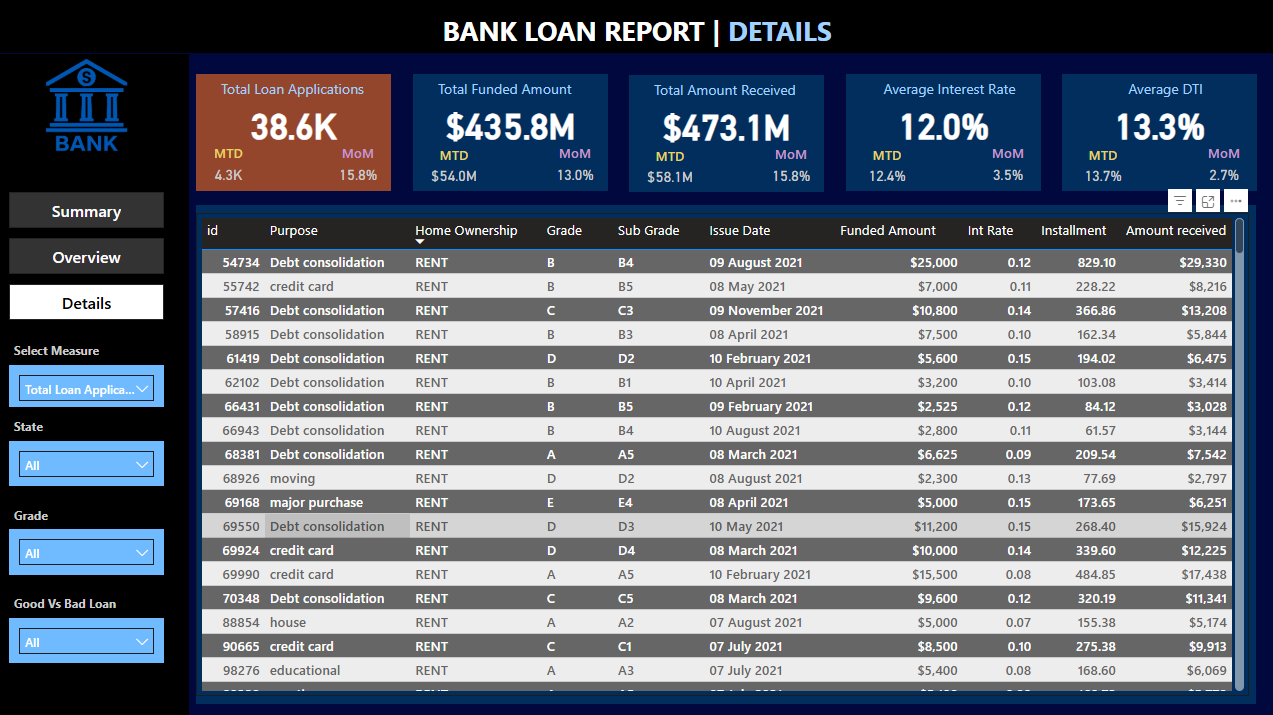

The page's visual inventory and layout, read from the dashboard file:
{"tool":"powerbi","page":{"name":"Details","canvas":[1280,720],"ordinal":2},"visuals":[{"type":"shape","box":[0,0,1280,55.4],"z":0},{"type":"shape","box":[0,55.7,191.6,664.3],"z":1000},{"type":"textbox","box":[413.4,8.8,453.3,46.7],"z":2000},{"type":"group","id":"g1","title":"Group 1","box":[199.4,75.9,194.5,116.7],"z":3000},{"type":"shape","box":[199.4,75.9,194.5,116.7],"z":3000,"group":"g1"},{"type":"shape","box":[415.8,75.9,194.5,116.7],"z":3000,"group":"g2"},{"type":"shape","box":[848.6,75.9,194.5,116.7],"z":3000,"group":"g4"},{"type":"shape","box":[1065,75.9,194.5,116.7],"z":3000,"group":"g5"},{"type":"shape","box":[632.2,76.8,194.5,116.7],"z":3000,"group":"g3"},{"type":"group","id":"g2","title":"Group 1","box":[415.8,75.9,194.5,116.7],"z":4000},{"type":"card","fields":{"Values":["public loan_data.Total Loan Applications"]},"box":[207.2,91.5,179,68.1],"z":4000,"group":"g1"},{"type":"card","fields":{"Values":["public loan_data.Total Funded Amount"]},"box":[423.6,91.5,179,68.1],"z":4000,"group":"g2"},{"type":"card","fields":{"Values":["public loan_data.Average Interest rate"]},"box":[856.4,91.5,179,68.1],"z":4000,"group":"g4"},{"type":"card","fields":{"Values":["public loan_data.Average DTI"]},"box":[1072.8,91.5,179,68.1],"z":4000,"group":"g5"},{"type":"card","fields":{"Values":["public loan_data.Total Amount received"]},"box":[640,92.4,179,68.1],"z":4000,"group":"g3"},{"type":"textbox","box":[219.8,75.9,166.3,30.2],"z":5000,"group":"g1"},{"type":"textbox","box":[436.2,75.9,166.3,30.2],"z":5000,"group":"g2"},{"type":"textbox","box":[869,75.9,166.3,30.2],"z":5000,"group":"g4"},{"type":"textbox","box":[1085.4,75.9,166.3,30.2],"z":5000,"group":"g5"},{"type":"group","id":"g3","title":"Group 1","box":[632.2,76.8,194.5,116.7],"z":5000},{"type":"textbox","box":[652.6,76.8,166.3,30.2],"z":5000,"group":"g3"},{"type":"shape","box":[199.4,207.2,1060.2,499],"z":5000,"group":"g6"},{"type":"group","id":"g4","title":"Group 1","box":[848.6,75.9,194.5,116.7],"z":6000},{"type":"card","title":"MTD","fields":{"Values":["public loan_data.MTD Loan Application"]},"box":[207.2,145.9,49.6,46.7],"z":6000,"group":"g1"},{"type":"card","title":"MTD","fields":{"Values":["public loan_data.MTD Funded Amount"]},"box":[427.1,148,59.3,44.7],"z":6000,"group":"g2"},{"type":"card","title":"MTD","fields":{"Values":["public loan_data.MTD Avg Interest Rate"]},"box":[859.9,148,59.3,44.7],"z":6000,"group":"g4"},{"type":"card","title":"MTD","fields":{"Values":["public loan_data.MTD Avg dti"]},"box":[1076.3,148,59.3,44.7],"z":6000,"group":"g5"},{"type":"card","title":"MTD","fields":{"Values":["public loan_data.MTD Received Amount"]},"box":[643.5,148.9,59.3,44.7],"z":6000,"group":"g3"},{"type":"group","id":"g5","title":"Group 1","box":[1065,75.9,194.5,116.7],"z":7000},{"type":"card","title":"MoM","fields":{"Values":["public loan_data.MOM Loan Application"]},"box":[336.5,145.9,49.6,46.7],"z":7000,"group":"g1"},{"type":"card","title":"MoM","fields":{"Values":["public loan_data.MOM Funded Amount"]},"box":[552.9,145.9,49.6,46.7],"z":7000,"group":"g2"},{"type":"card","title":"MoM","fields":{"Values":["public loan_data.MOM Avg Interest Rate"]},"box":[985.7,145.9,49.6,46.7],"z":7000,"group":"g4"},{"type":"card","title":"MoM","fields":{"Values":["public loan_data.MOM Avg dti"]},"box":[1202.1,145.9,49.6,46.7],"z":7000,"group":"g5"},{"type":"card","title":"MoM","fields":{"Values":["public loan_data.MOM Received Amount"]},"box":[769.3,146.8,49.6,46.7],"z":7000,"group":"g3"},{"type":"slicer","fields":{"Values":["public loan_data.address_state"]},"box":[11.7,442.6,155.6,45.7],"z":8000},{"type":"textbox","box":[11.7,414.3,60.3,28.2],"z":9000},{"type":"slicer","fields":{"Values":["public loan_data.grade"]},"box":[11.7,531.1,155.6,45.7],"z":10000},{"type":"slicer","fields":{"Values":["public loan_data.Good Vs Bad Loan"]},"box":[11.7,619.6,155.6,45.7],"z":11000},{"type":"textbox","box":[11.7,502.9,60.3,28.2],"z":12000},{"type":"textbox","box":[11.7,591.4,131.3,28.2],"z":13000},{"type":"slicer","fields":{"Values":["Select Measure.Select Measure"]},"box":[11.7,366.7,155.6,42.8],"z":14000},{"type":"textbox","box":[11.7,338.5,122.6,28.2],"z":15000},{"type":"group","id":"g6","title":"Group 2","box":[199.4,207.2,1060.2,499],"z":16000},{"type":"tableEx","fields":{"Values":["public loan_data.id","public loan_data.purpose","public loan_data.home_ownership","public loan_data.grade","public loan_data.sub_grade","public loan_data.issue_date","public loan_data.Total Funded Amount","public loan_data.int_rate","public loan_data.installment","public loan_data.Total Amount received"]},"box":[199.4,215,1052.4,483.4],"z":17000},{"type":"pageNavigator","box":[11.7,193.6,155.6,130.3],"z":18000},{"type":"image","box":[23.3,32.1,132.3,149.8],"z":18001}]}

Visuals, with their boxes in screenshot pixels (x1, y1, x2, y2), scaled from the page's 1280x720 canvas onto the 1273x715 screenshot:
shape: (0,0,1272,55)
shape: (0,55,191,714)
textbox: (411,9,862,55)
"Group 1" group: (198,75,392,191)
shape: (198,75,392,191)
shape: (414,75,607,191)
shape: (844,75,1037,191)
shape: (1059,75,1253,191)
shape: (629,76,822,192)
"Group 1" group: (414,75,607,191)
card - public loan_data.Total Loan Applications: (206,91,384,158)
card - public loan_data.Total Funded Amount: (421,91,599,158)
card - public loan_data.Average Interest rate: (852,91,1030,158)
card - public loan_data.Average DTI: (1067,91,1245,158)
card - public loan_data.Total Amount received: (636,92,815,159)
textbox: (219,75,384,105)
textbox: (434,75,599,105)
textbox: (864,75,1030,105)
textbox: (1079,75,1245,105)
"Group 1" group: (629,76,822,192)
textbox: (649,76,814,106)
shape: (198,206,1253,701)
"Group 1" group: (844,75,1037,191)
"MTD" card: (206,145,255,191)
"MTD" card: (425,147,484,191)
"MTD" card: (855,147,914,191)
"MTD" card: (1070,147,1129,191)
"MTD" card: (640,148,699,192)
"Group 1" group: (1059,75,1253,191)
"MoM" card: (335,145,384,191)
"MoM" card: (550,145,599,191)
"MoM" card: (980,145,1030,191)
"MoM" card: (1196,145,1245,191)
"MoM" card: (765,146,814,192)
slicer - public loan_data.address_state: (12,440,166,485)
textbox: (12,411,72,439)
slicer - public loan_data.grade: (12,527,166,573)
slicer - public loan_data.Good Vs Bad Loan: (12,615,166,661)
textbox: (12,499,72,527)
textbox: (12,587,142,615)
slicer - Select Measure.Select Measure: (12,364,166,407)
textbox: (12,336,134,364)
"Group 2" group: (198,206,1253,701)
tableEx - public loan_data.id x public loan_data.purpose: (198,214,1245,694)
pageNavigator: (12,192,166,322)
image: (23,32,155,181)
